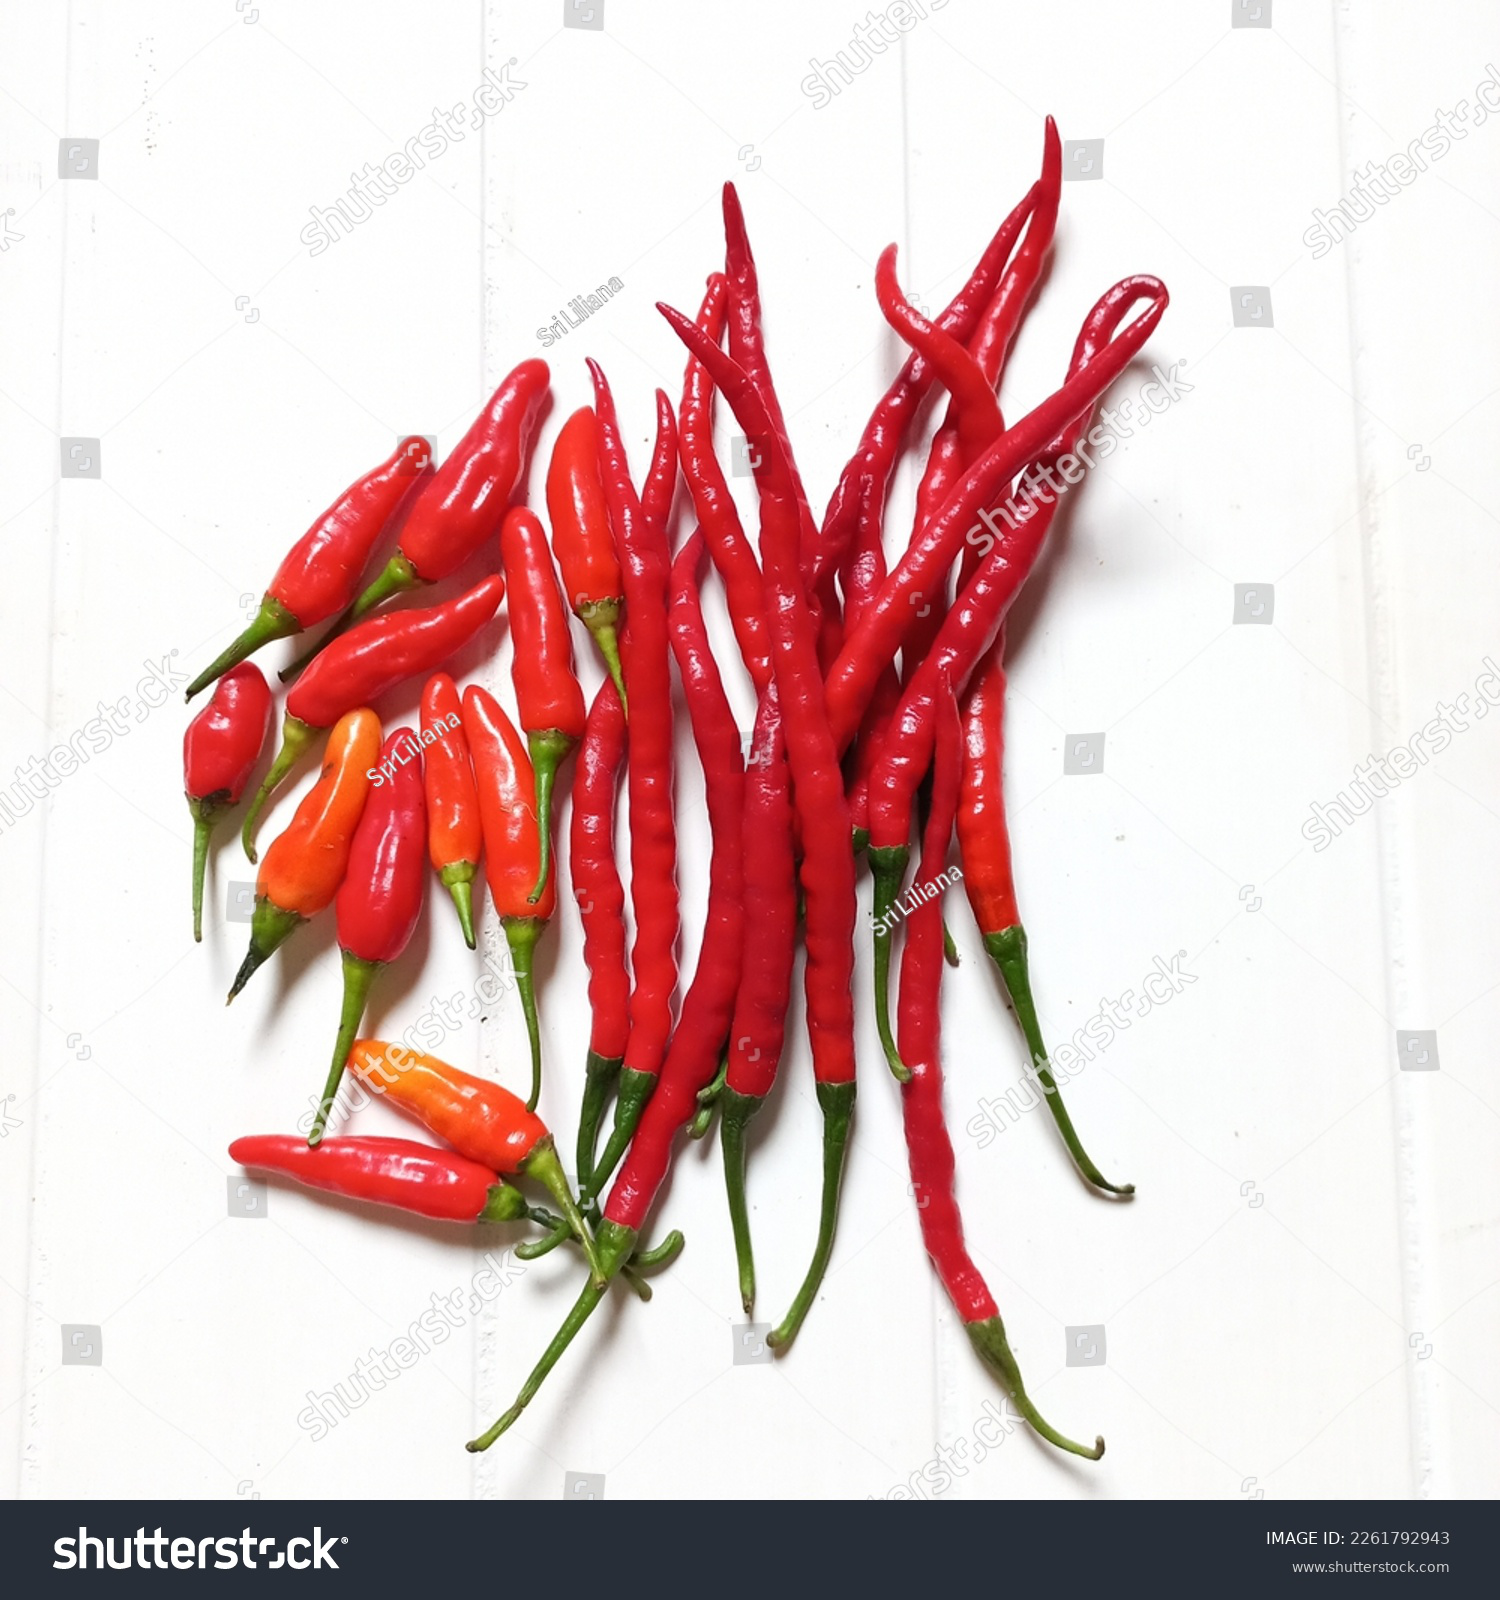Cabai: (295, 323, 1131, 1281)
